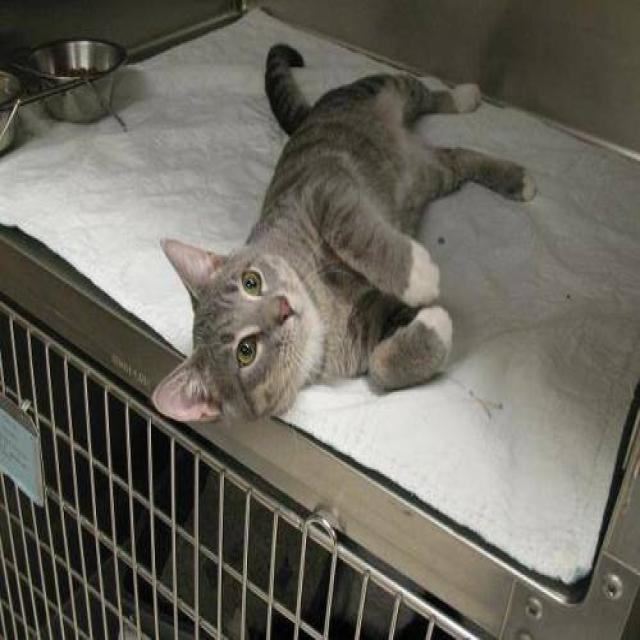cat: (151, 41, 536, 426)
